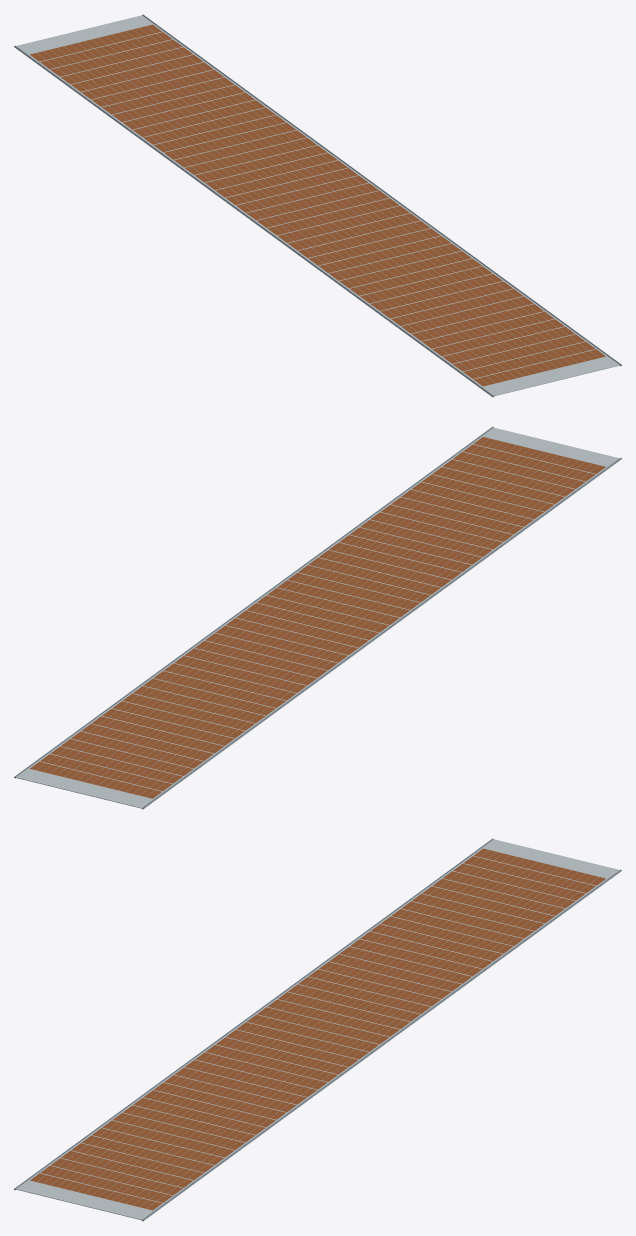
The model's file is iss_arrays.s6_alpha_joint.wing_forward.blanket_r.glb.
3 views of the same model, one above another, from view 1: azimuth 30°, elevation 25°; view 2: azimuth 150°, elevation 25°; view 3: azimuth 330°, elevation 25° (orthographic).
Parts seen in each view (by area): view 1: iss_arrays.s6_alpha_joint.wing_forward.blanket_r.cells.mesh_ (×2), iss_arrays.s6_alpha_joint.wing_forward.blanket_r.mesh_Machin; view 2: iss_arrays.s6_alpha_joint.wing_forward.blanket_r.cells.mesh_ (×2), iss_arrays.s6_alpha_joint.wing_forward.blanket_r.mesh_Machin; view 3: iss_arrays.s6_alpha_joint.wing_forward.blanket_r.cells.mesh_ (×2), iss_arrays.s6_alpha_joint.wing_forward.blanket_r.mesh_Machin.
Boxes of the visible parts, left/top/right/bottom form: iss_arrays.s6_alpha_joint.wing_forward.blanket_r.cells.mesh_ (×2): left=14, top=15, right=619, bottom=396; iss_arrays.s6_alpha_joint.wing_forward.blanket_r.mesh_Machin: left=14, top=14, right=621, bottom=397; iss_arrays.s6_alpha_joint.wing_forward.blanket_r.cells.mesh_ (×2): left=14, top=427, right=621, bottom=808; iss_arrays.s6_alpha_joint.wing_forward.blanket_r.mesh_Machin: left=14, top=426, right=621, bottom=809; iss_arrays.s6_alpha_joint.wing_forward.blanket_r.cells.mesh_ (×2): left=16, top=839, right=621, bottom=1220; iss_arrays.s6_alpha_joint.wing_forward.blanket_r.mesh_Machin: left=14, top=838, right=621, bottom=1221.
Bounding box in the file's own units: 5.42 × 0.0627 × 34.6.
